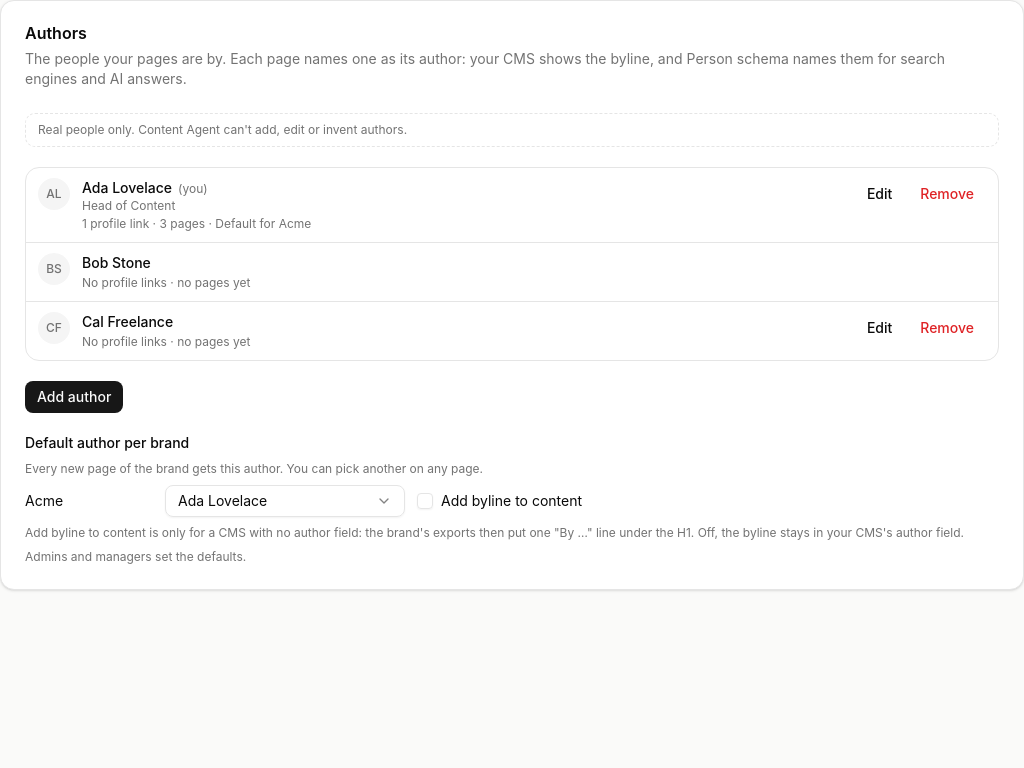
Scenario: AuthorsSection › can't make the member a second author
This screenshot has width=1024, height=768.
Click the button "Add author" at (74, 397), box [25,381,123,413]
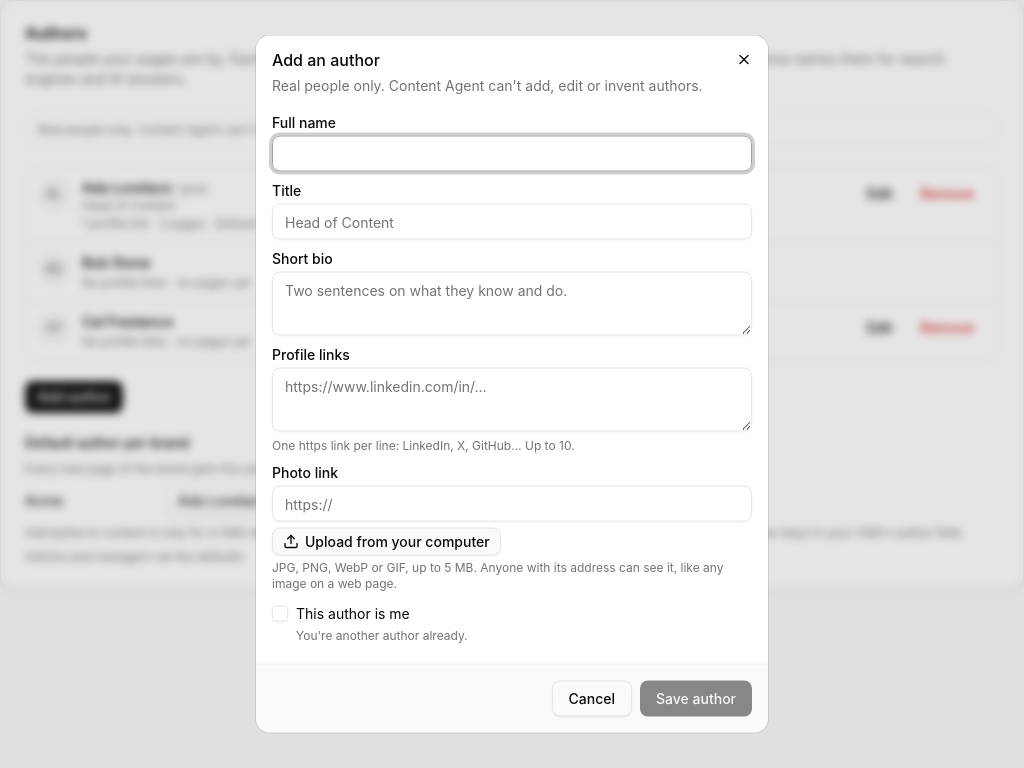
Now the text "You're another author already." is shown, box [296,628,468,642]
